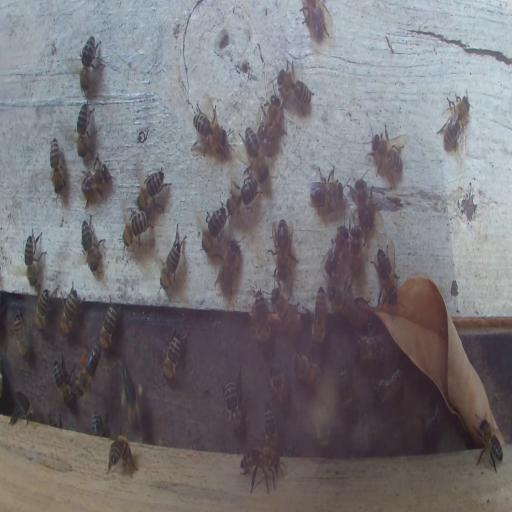bee: (238, 446, 288, 494), (366, 125, 405, 184), (435, 92, 472, 154), (191, 99, 227, 158), (160, 223, 187, 292), (270, 219, 297, 286), (136, 168, 172, 216), (473, 416, 503, 473), (371, 247, 399, 308), (271, 288, 305, 338), (280, 58, 313, 109), (310, 165, 342, 216), (223, 364, 245, 438), (214, 239, 243, 295), (120, 365, 143, 435), (245, 126, 273, 183), (201, 195, 228, 254), (80, 153, 112, 202), (80, 215, 105, 277), (106, 433, 138, 478), (79, 35, 103, 93), (320, 226, 349, 274), (258, 85, 282, 142), (354, 332, 396, 364), (24, 229, 46, 288), (160, 328, 184, 381), (301, 0, 331, 42), (353, 176, 376, 230), (122, 208, 154, 246), (372, 365, 404, 403), (98, 298, 120, 352), (54, 354, 75, 410), (224, 182, 258, 216), (76, 348, 101, 394), (59, 282, 80, 336), (75, 100, 93, 160), (328, 286, 358, 322), (293, 350, 321, 388), (350, 223, 368, 279), (270, 361, 288, 417), (338, 363, 354, 425), (253, 289, 270, 344), (312, 286, 327, 348), (262, 402, 280, 451), (49, 136, 64, 194), (316, 408, 333, 459), (34, 286, 50, 331), (14, 308, 28, 358), (14, 392, 32, 420), (90, 412, 104, 436)
